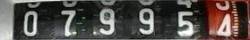digits: (215, 11, 235, 39), (176, 10, 194, 36), (137, 7, 154, 34), (60, 10, 76, 36), (22, 10, 38, 36), (98, 8, 114, 34)
